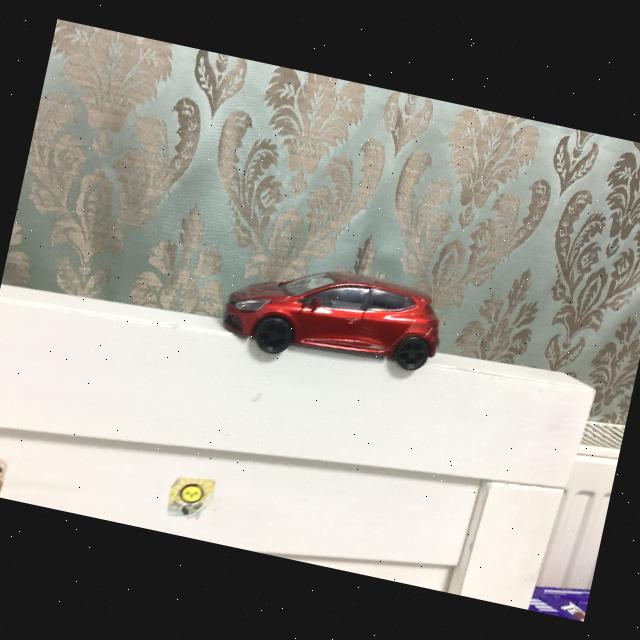Dogru_Jant: (255, 316, 291, 352), (394, 336, 428, 369)
